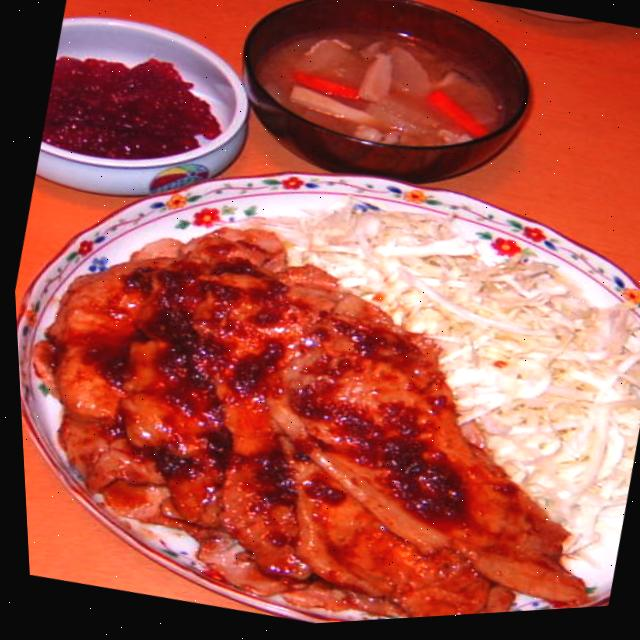猪肉菜式: (6, 108, 640, 640)
